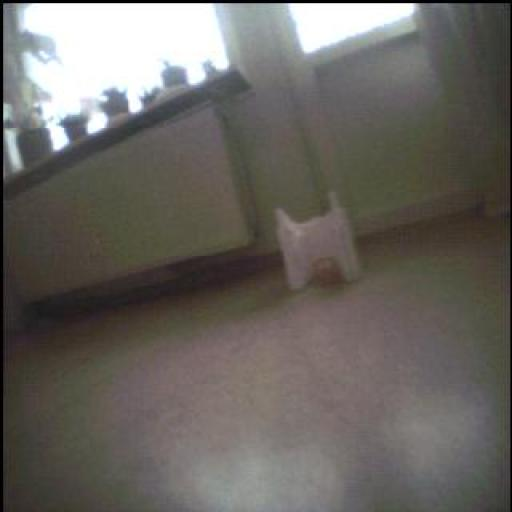Basket: (315, 256, 346, 290)
